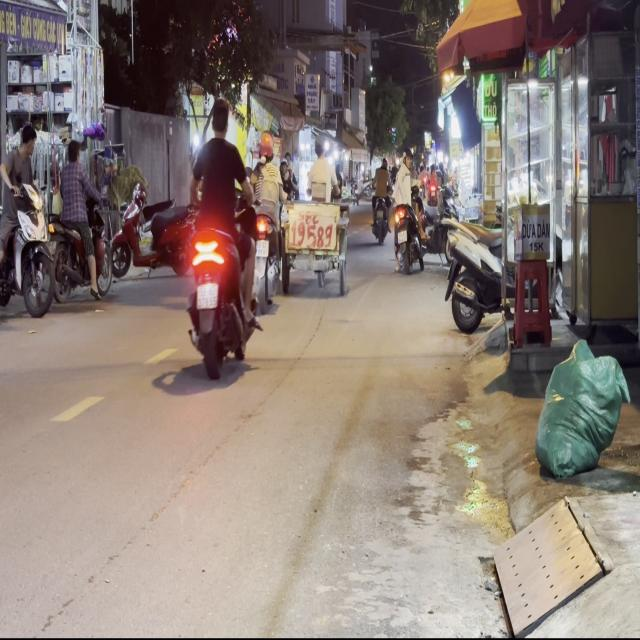helmet: (258, 132, 273, 160)
licenseplate: (183, 94, 260, 378), (48, 133, 112, 311), (0, 118, 54, 323), (250, 130, 289, 307)
motorcyclist: (209, 96, 230, 138), (18, 121, 36, 158), (66, 138, 80, 162)
nohelmet: (196, 283, 218, 307), (255, 240, 268, 256)
